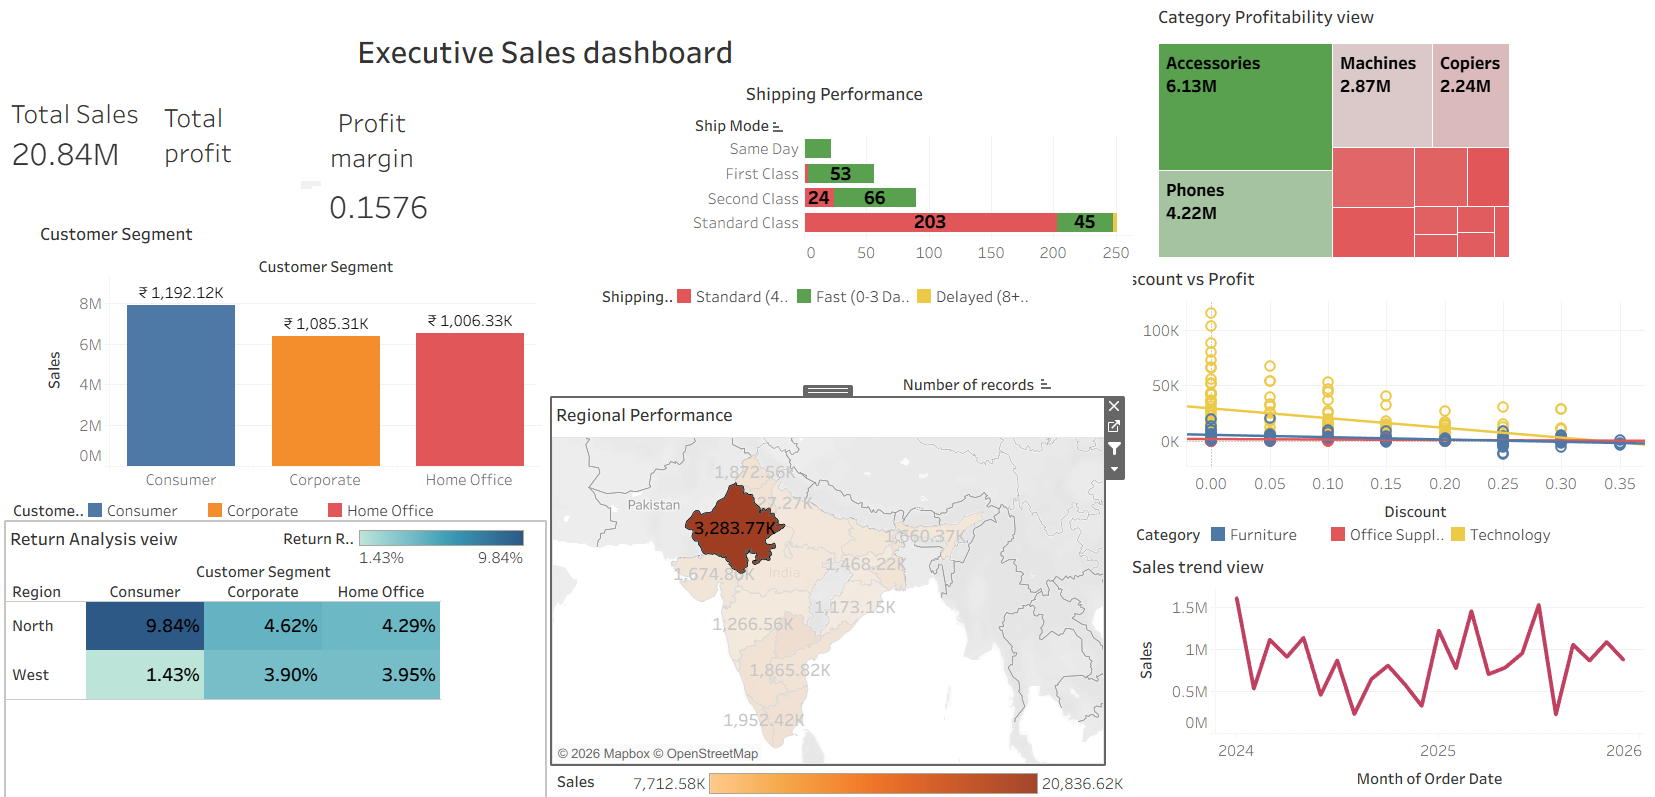

This screenshot's page, from the dashboard's own definition file:
{"tool":"tableau","page":{"name":"Executive Sales dashboard","canvas":[1000,1000],"units":"permille","ordinal":0},"visuals":[{"type":"worksheet","title":"Category Profitability view","mark":"Automatic","box":[697,0,302.4,327.1]},{"type":"title","box":[4.8,10,990.3,106.1]},{"type":"worksheet","title":"Shipping Performance","mark":"Automatic","rows":["ship_mode"],"cols":["Calculation_1255660497924103"],"box":[324.1,96.1,360.3,405.7]},{"type":"worksheet","title":"Total Sales","mark":"Automatic","box":[4.8,114.9,98.4,118.6]},{"type":"worksheet","title":"Total profit","mark":"Automatic","box":[97.2,119.9,104.4,116.1]},{"type":"worksheet","title":"Profit margin","mark":"Automatic","box":[188.9,126.1,94.8,161.1]},{"type":"worksheet","title":"Customer Segment","mark":"Automatic","rows":["sales"],"cols":["customer_segment"],"box":[22.3,270.9,305.4,342.1]},{"type":"worksheet","title":"Discount vs Profit","mark":"Automatic","rows":["profit"],"cols":["discount"],"box":[669.3,327.1,324.1,333.3]},{"type":"legend","title":"Shipping Performance","param":"[federated.0z0as7z01bxado13thge306664ue].[none:Calculation_1255660486029316:nk]","box":[363.9,357.1,306.6,26.2]},{"type":"worksheet","title":"Regional Performance","mark":"Automatic","box":[333.7,496.9,333.1,456.9]},{"type":"legend","title":"Customer Segment","param":"[federated.0z0as7z01bxado13thge306664ue].[none:customer_segment:nk]","box":[8.4,624.2,293.9,44.9]},{"type":"worksheet","title":"Return Analysis veiw","mark":"Square","rows":["region"],"cols":["customer_segment"],"box":[4.2,651.7,325.3,347.1]},{"type":"legend","title":"Discount vs Profit","param":"[federated.0z0as7z01bxado13thge306664ue].[none:category:nk]","box":[686.2,654.2,264.3,25]},{"type":"legend","title":"Return Analysis veiw","param":"[federated.0z0as7z01bxado13thge306664ue].[usr:Return Rate (copy)_125566050623898","box":[171.4,656.7,147.9,54.9]},{"type":"worksheet","title":"Sales trend view","mark":"Line","rows":["sales"],"cols":["order_date"],"box":[681.4,686.6,311.4,307.1]},{"type":"legend","title":"Regional Performance","param":"[federated.0z0as7z01bxado13thge306664ue].[sum:sales:qk]","box":[336.8,960.1,344.6,31.2]}]}

Visuals, with their boxes on the dashboard's canvas, which has no fixed pixel size, in thousandths of its width and height (x1, y1, x2, y2). These are canvas units, not pixel positions in the 1655x797 screenshot, which may show the page scaled, cropped or inside an application window:
"Category Profitability view" worksheet: 697:0:999:327
title: 5:10:995:116
"Shipping Performance" worksheet: 324:96:684:502
"Total Sales" worksheet: 5:115:103:234
"Total profit" worksheet: 97:120:202:236
"Profit margin" worksheet: 189:126:284:287
"Customer Segment" worksheet: 22:271:328:613
"Discount vs Profit" worksheet: 669:327:993:660
"Shipping Performance" legend: 364:357:670:383
"Regional Performance" worksheet: 334:497:667:954
"Customer Segment" legend: 8:624:302:669
"Return Analysis veiw" worksheet (Square marks): 4:652:330:999
"Discount vs Profit" legend: 686:654:950:679
"Return Analysis veiw" legend: 171:657:319:712
"Sales trend view" worksheet (Line marks): 681:687:993:994
"Regional Performance" legend: 337:960:681:991
